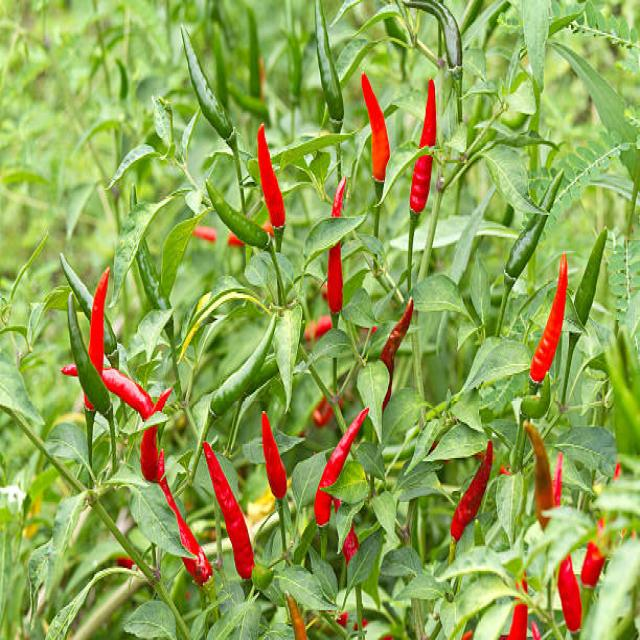Half-Ripe: (524, 422, 555, 528)
Ripe: (158, 450, 212, 586), (204, 442, 255, 578), (315, 407, 368, 525), (530, 253, 568, 382), (450, 441, 491, 541), (408, 79, 436, 214), (101, 368, 171, 420), (380, 298, 412, 410), (361, 73, 390, 182), (328, 170, 349, 316), (258, 124, 285, 228), (89, 268, 109, 374), (263, 411, 286, 498), (558, 555, 582, 631), (558, 555, 582, 631), (581, 542, 605, 588), (140, 426, 158, 482), (508, 602, 528, 640), (552, 452, 562, 505), (61, 364, 78, 376)
Unripe: (496, 169, 564, 335), (211, 315, 276, 415), (182, 26, 232, 140), (68, 292, 112, 419), (206, 182, 269, 248), (404, 0, 462, 68), (315, 0, 344, 121), (574, 227, 608, 325), (258, 124, 285, 228), (136, 238, 170, 310), (61, 253, 94, 320), (104, 315, 119, 368)
